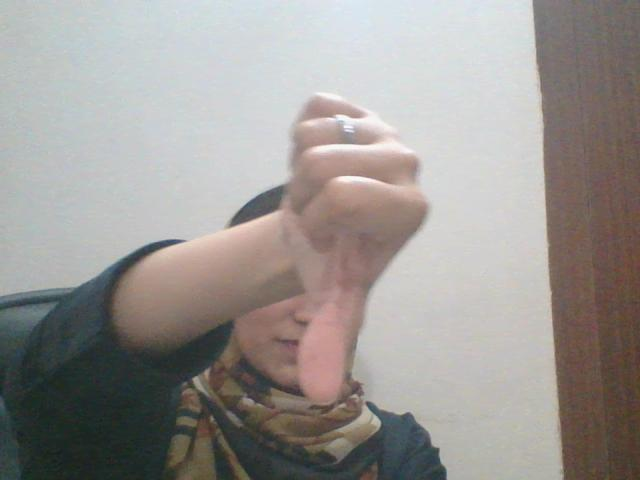thumbs-down: (279, 91, 436, 410)
